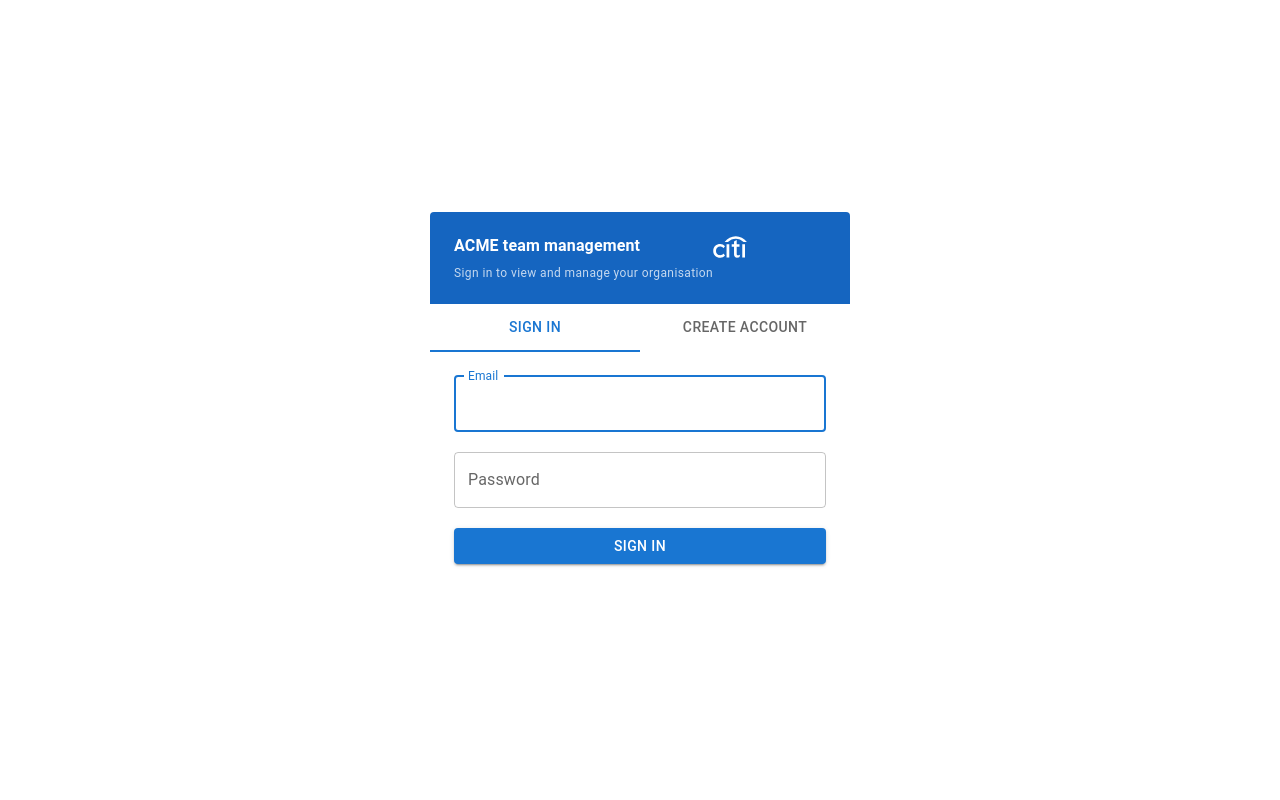
Test: the registration form › appears when the tab is chosen
Click the tab "Create account": (745, 328) x1=640 y1=304 x2=850 y2=352
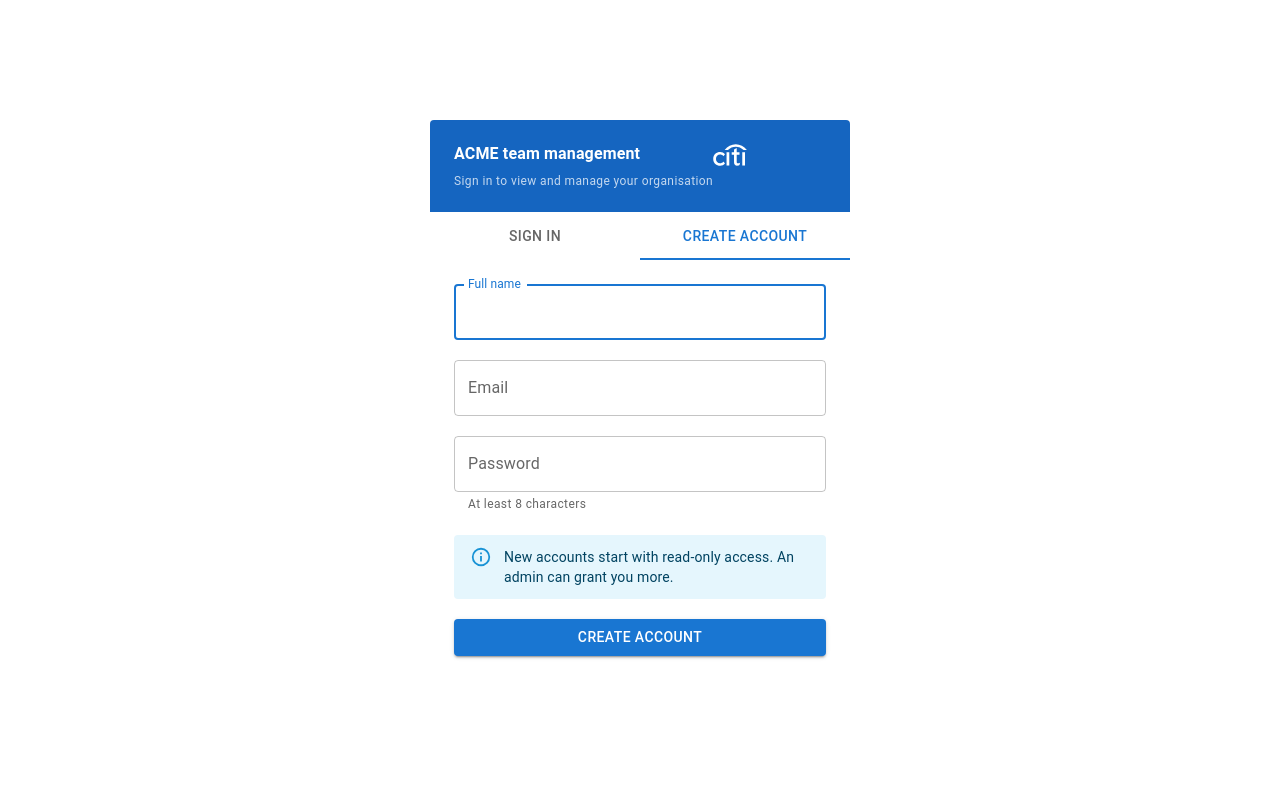
Check: the field labelled "Full name" is shown, box x1=454 y1=284 x2=826 y2=340
Check: the button "Create account" is shown, box x1=454 y1=619 x2=826 y2=656
